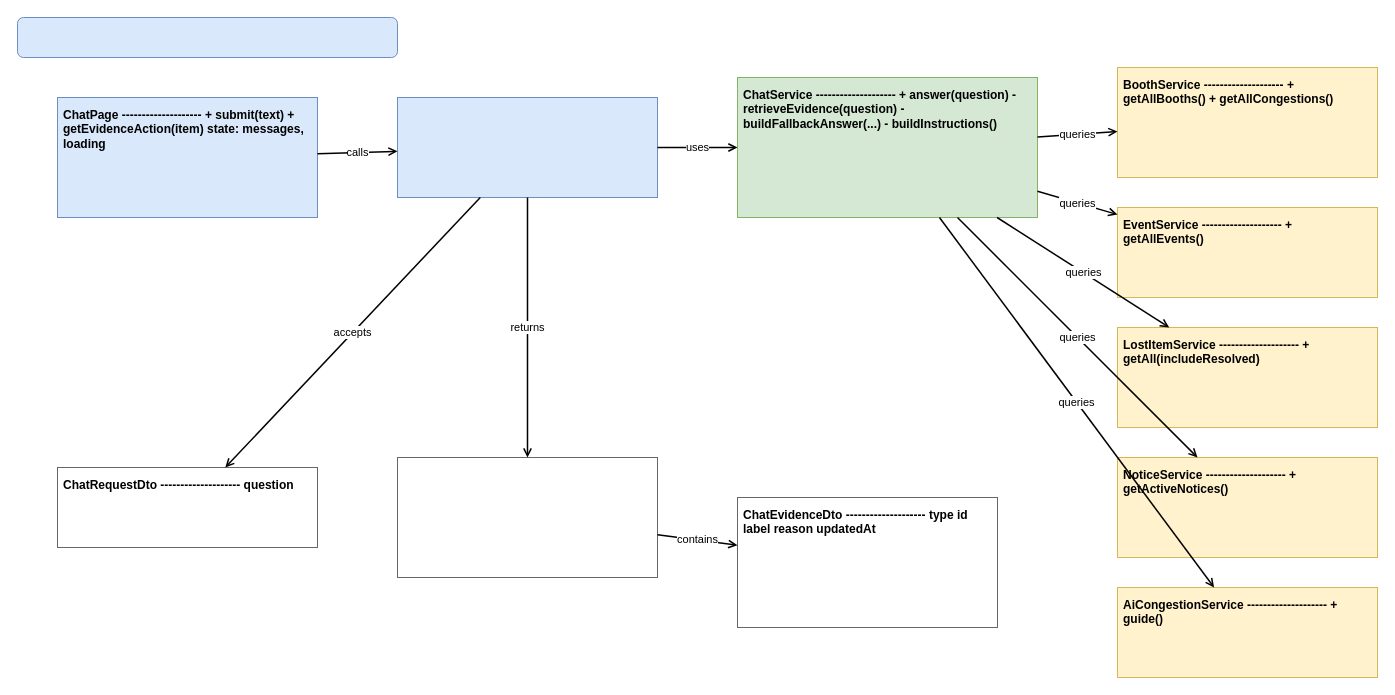
The diagram is 1395 pixels wide and 695 high, and some of its shapes have lost their labels. Each missing label, with the centre of its shape:
"AI 챗봇 질의응답 - 클래스" goes at [207,37].
"ChatController -------------------- + chat(requestDto) : ChatResponseDto" goes at [527,147].
"ChatResponseDto -------------------- answer confidence evidence warnings" goes at [527,517].
